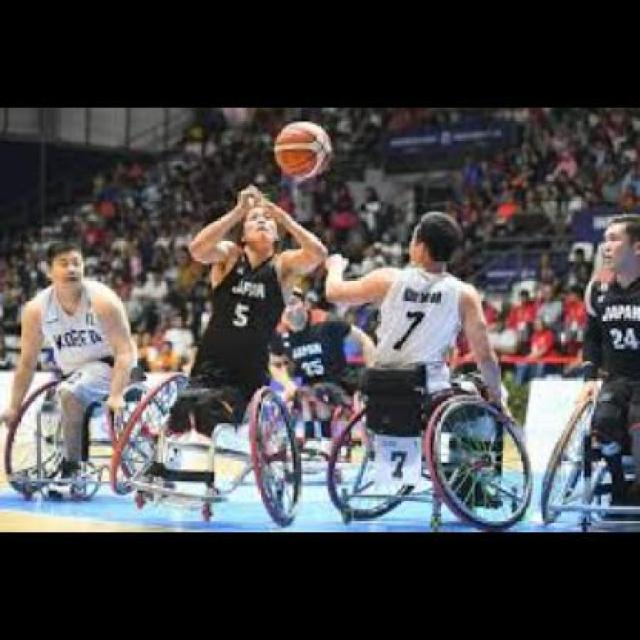wheelchairs: (325, 361, 534, 528), (115, 371, 305, 526), (7, 361, 161, 507), (536, 367, 640, 532)
